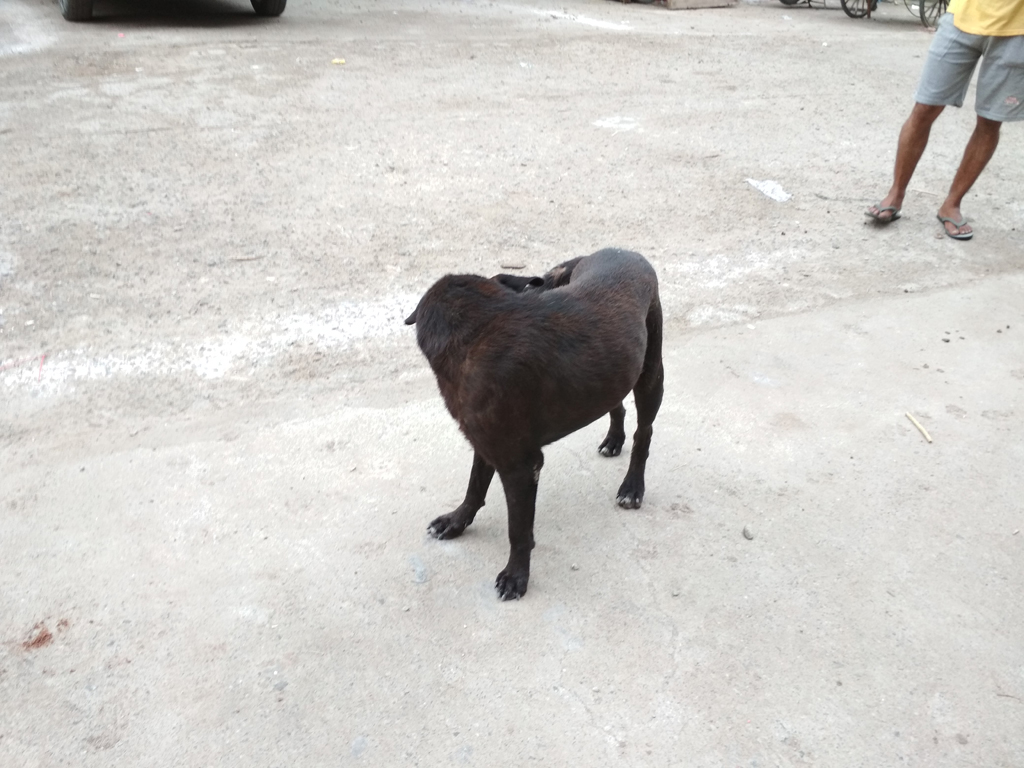dog: (405, 249, 667, 600)
